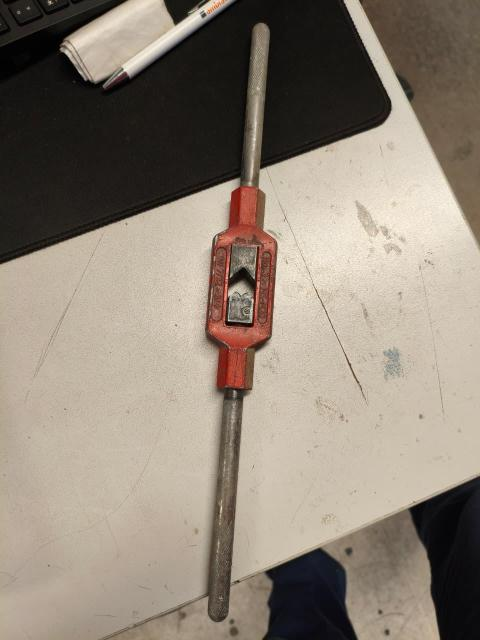Metal: (205, 25, 285, 622)
